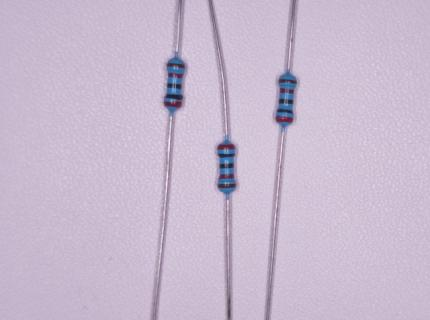Black band: (165, 93, 183, 101), (278, 98, 293, 105), (277, 108, 293, 114), (167, 83, 182, 89), (220, 163, 235, 169), (218, 153, 235, 158)
Brown band: (278, 77, 297, 85), (167, 62, 186, 69), (217, 183, 237, 189)
Red band: (274, 115, 294, 123), (164, 100, 183, 108), (279, 87, 295, 95), (167, 72, 184, 79), (217, 144, 236, 150), (219, 173, 235, 180)
